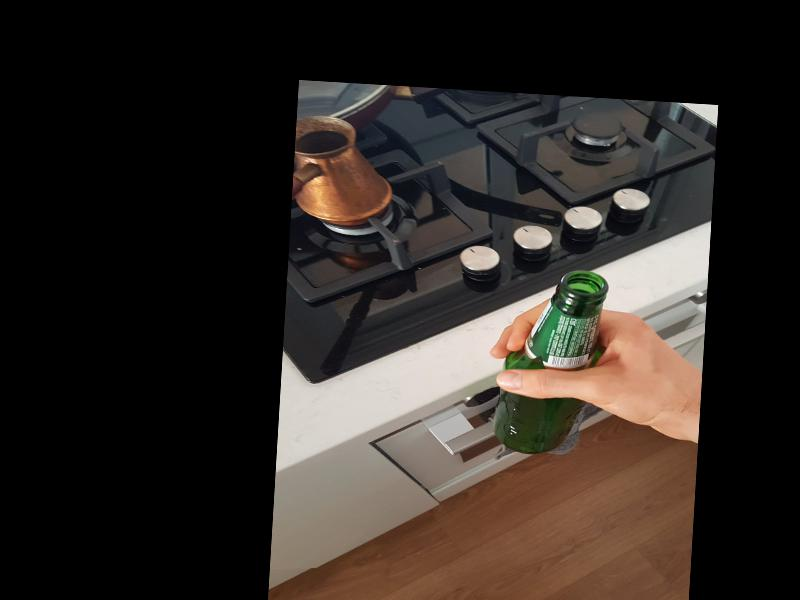Beer: (493, 265, 608, 458)
